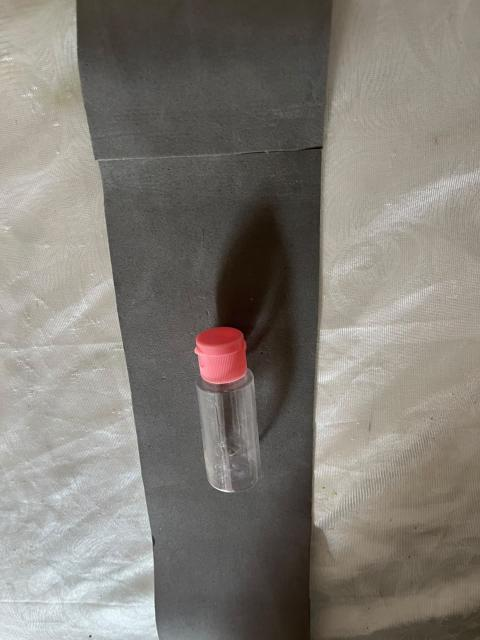PET: (165, 303, 283, 512)
